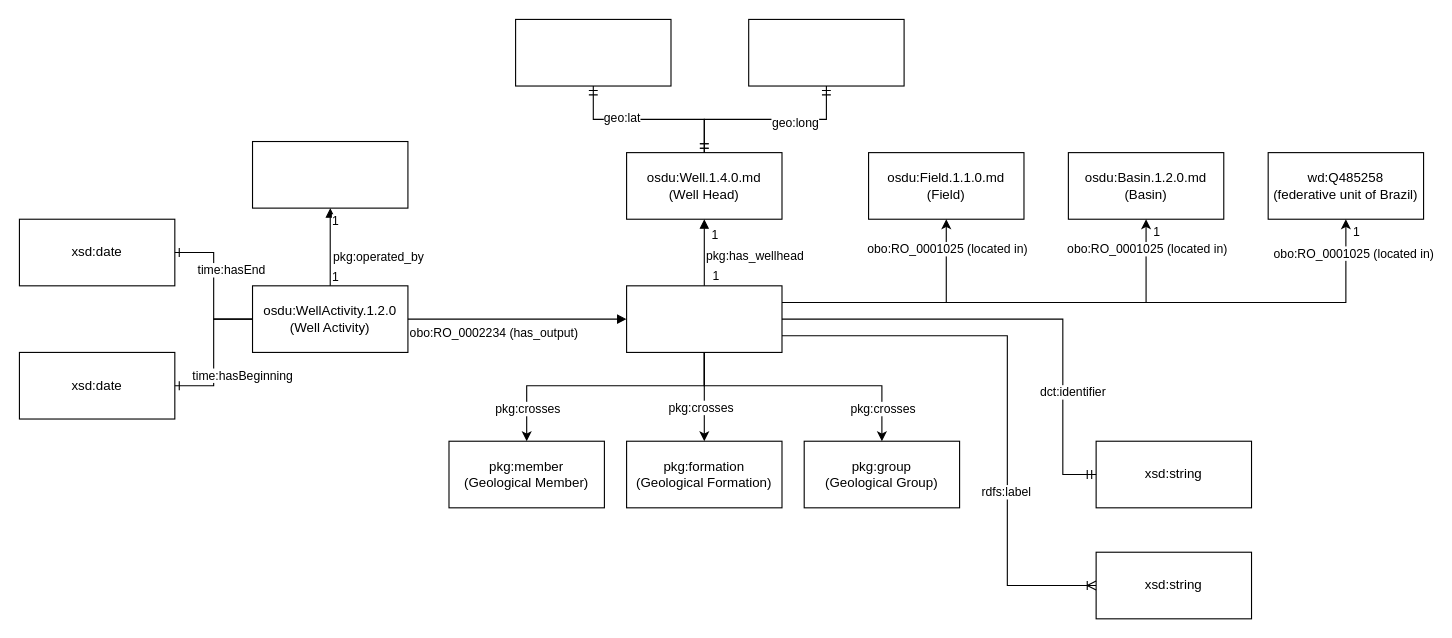
This 1452x638 diagram has some shape labels left out. Each missing label, with the centre of its shape:
"latitude ( WS84 )" belongs at (592,52).
"longitude (WS84)" belongs at (826,52).
"osdu:Organisation.1.2.0 (Organisation)" belongs at (329,174).
"osdu:Wellbore.1.5.1.md (Well)" belongs at (703,318).
